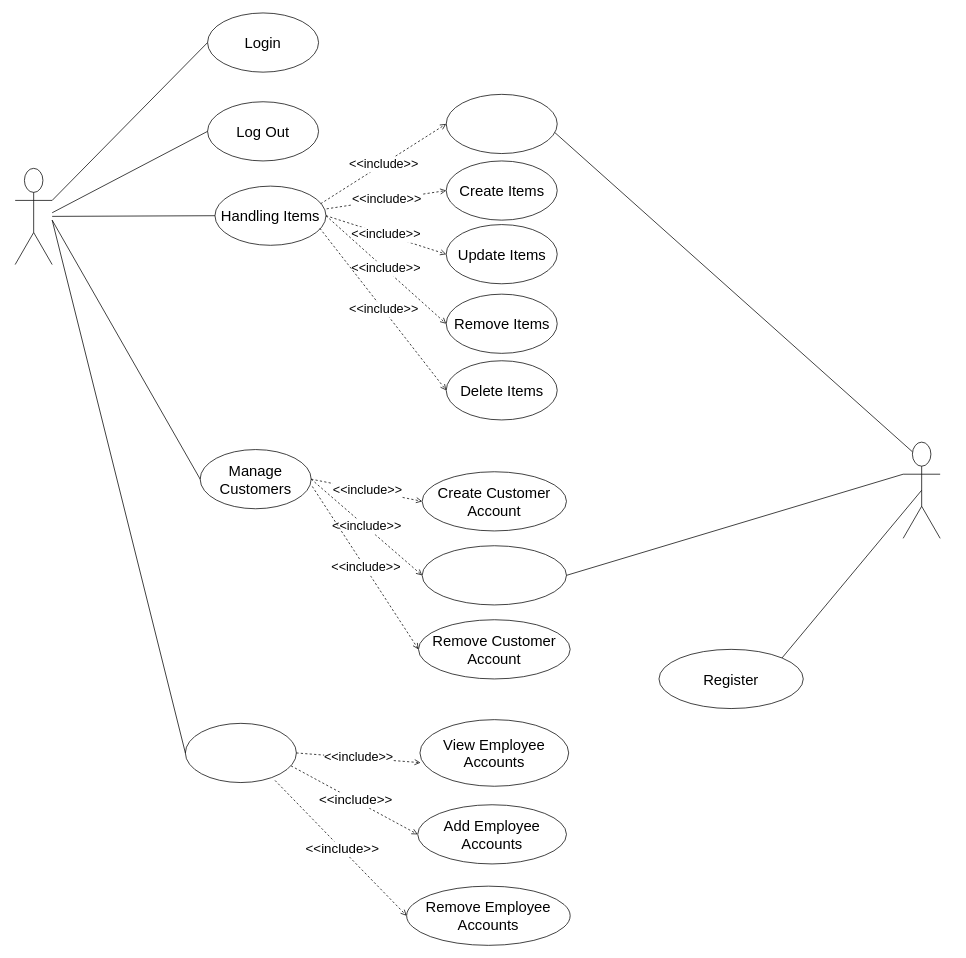
Image size: 966x958. Some labels were removed from this diagram. The box of each missing label's shape, as (x1, y1, x2, y2) in pixels:
Admin: (14, 168, 52, 265)
Customer: (902, 441, 940, 538)
Manage Employees: (185, 723, 296, 783)
Search Items: (445, 94, 557, 154)
Update Customer Account: (421, 545, 566, 605)
